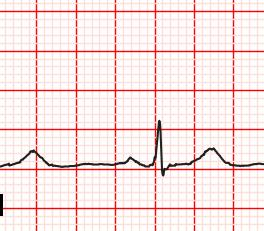LVH: (190, 143, 232, 172)
